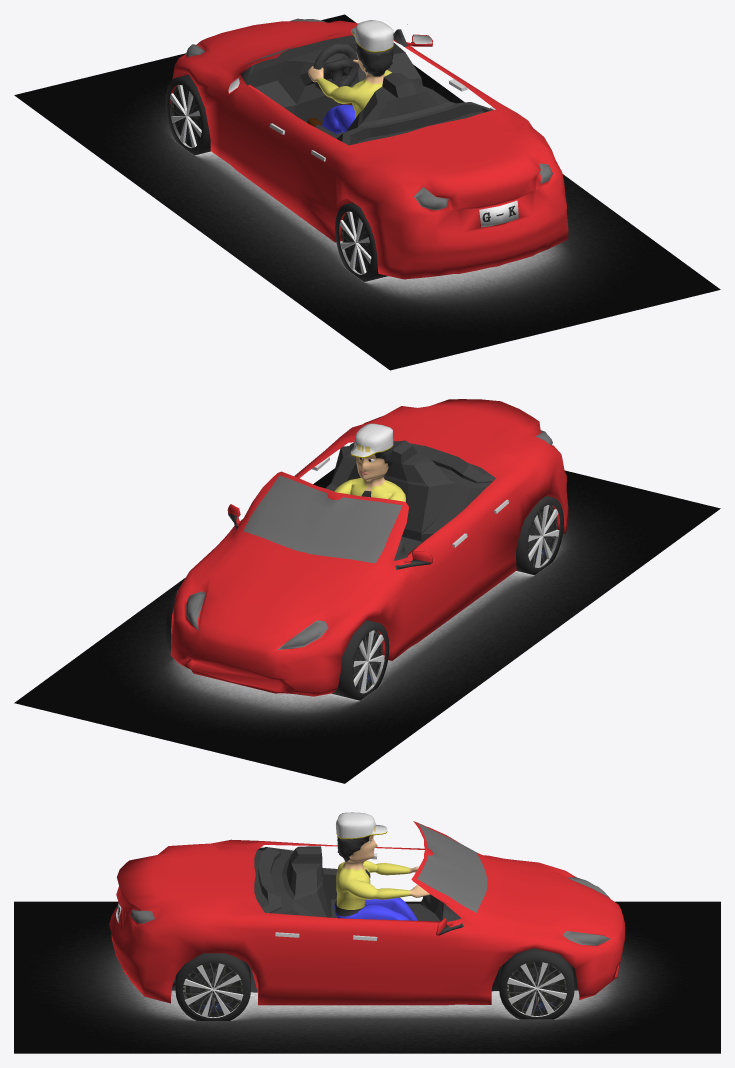
File: car.glb
The picture shows the model from 3 angles, top to bottom: view 1: azimuth 30°, elevation 25°; view 2: azimuth 150°, elevation 25°; view 3: azimuth 270°, elevation 25°; orthographic projection. The views are drawn at different scales.
Parts seen in each view (by area): view 1: shadow, Car, Car_Inside, Character, Front_Wheel_L, Back_Wheel_L, Steering_Wheel; view 2: Car, shadow, Car_Inside, Character, Front_Wheel_L, Back_Wheel_L; view 3: Car, shadow, Car_Inside, Character, Front_Wheel_R, Back_Wheel_R.
Boxes of the visible parts, x1,y1,x2,y2 form: shadow: [14, 14, 720, 370]; Car: [170, 18, 568, 279]; Car_Inside: [250, 35, 493, 145]; Character: [307, 20, 393, 134]; Front_Wheel_L: [165, 74, 210, 155]; Back_Wheel_L: [335, 202, 388, 281]; Steering_Wheel: [313, 43, 359, 93]; Car: [170, 399, 568, 696]; shadow: [14, 468, 720, 783]; Car_Inside: [325, 440, 495, 554]; Character: [334, 423, 405, 502]; Front_Wheel_L: [332, 620, 389, 700]; Back_Wheel_L: [516, 496, 563, 575]; Car: [109, 821, 625, 1005]; shadow: [14, 901, 720, 1053]; Car_Inside: [254, 846, 444, 921]; Character: [334, 812, 430, 920]; Front_Wheel_R: [499, 948, 574, 1019]; Back_Wheel_R: [175, 953, 250, 1020].
Bounding box in the file's own units: 4.11 × 2.08 × 8.09.
12 materials, 5 textured.
